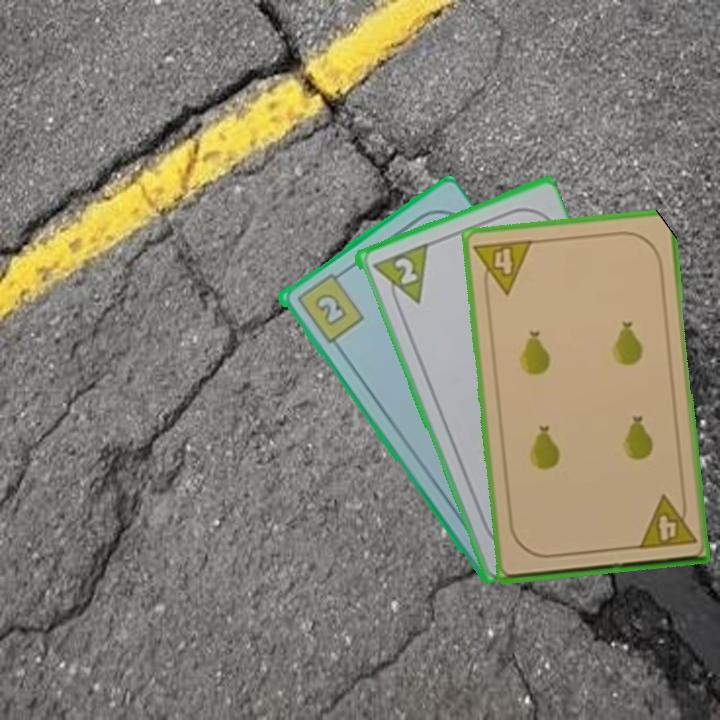2b: (292, 266, 367, 346)
2p: (366, 240, 430, 313)
4p: (470, 236, 536, 299), (634, 491, 699, 552)
